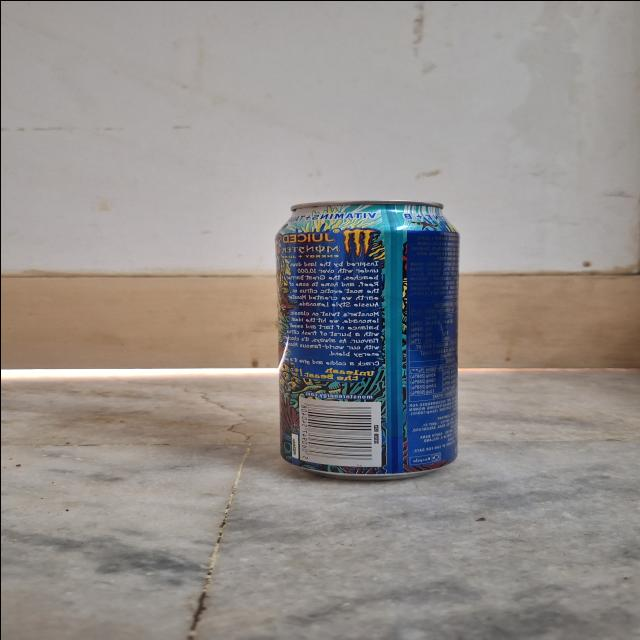Monster Aussie Lemonade: (263, 190, 470, 486)
